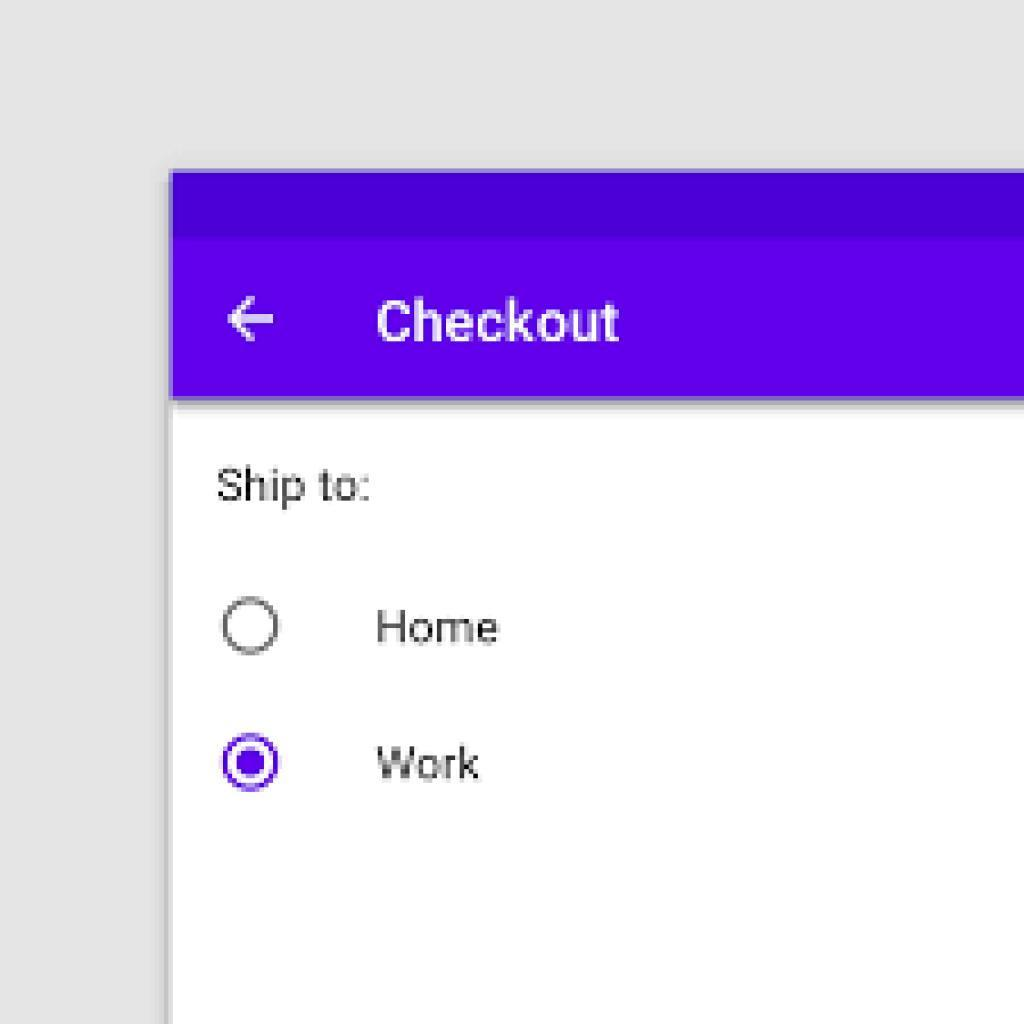icon: (220, 291, 285, 350)
label: (374, 292, 630, 350), (208, 457, 381, 514), (368, 601, 514, 653), (371, 735, 490, 793)
radio: (217, 727, 284, 799), (218, 592, 285, 663)
